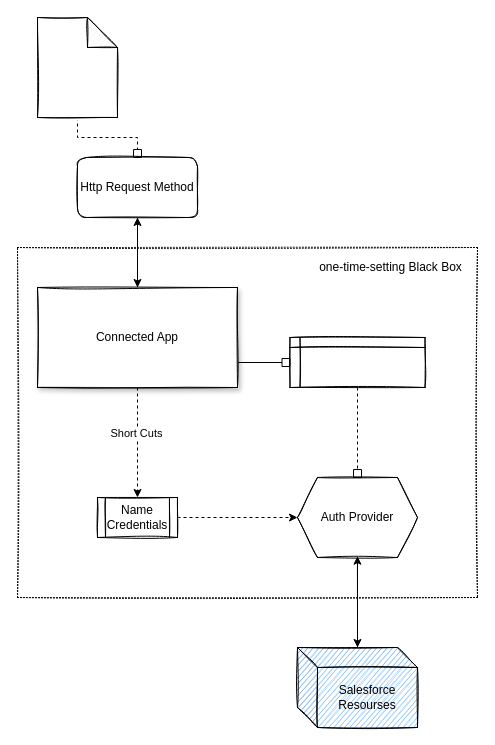
The diagram is 495 pixels wide and 745 high, and some of its shapes have lost their labels. Each missing label, with the centre of its shape:
ApexClass: [77,67]
Customer Key Customer Secret: [357,362]
